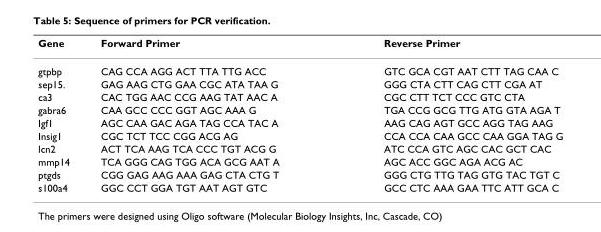table: (37, 36, 562, 193)
table column: (84, 36, 330, 193), (330, 36, 562, 193), (37, 36, 84, 193)
table column header: (37, 36, 562, 56)
table row: (37, 56, 562, 77), (37, 36, 562, 56), (37, 77, 562, 90), (37, 90, 562, 103), (37, 115, 562, 128), (37, 128, 562, 141), (37, 141, 562, 154), (37, 154, 562, 167), (37, 167, 562, 180), (37, 180, 562, 193), (37, 103, 562, 115)
